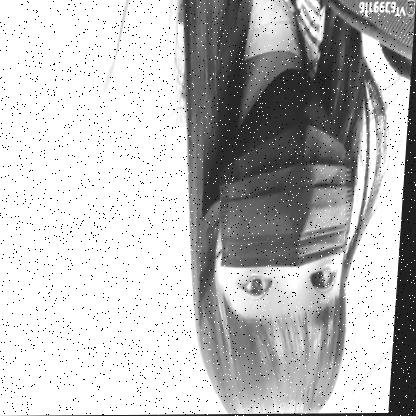streamer: (46, 0, 404, 416)
